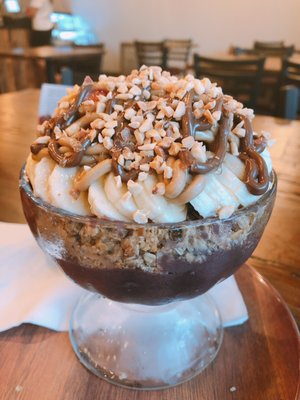curry: (0, 108, 300, 399)
pasta: (194, 52, 265, 107), (162, 39, 192, 74)
soup: (11, 72, 278, 395)
